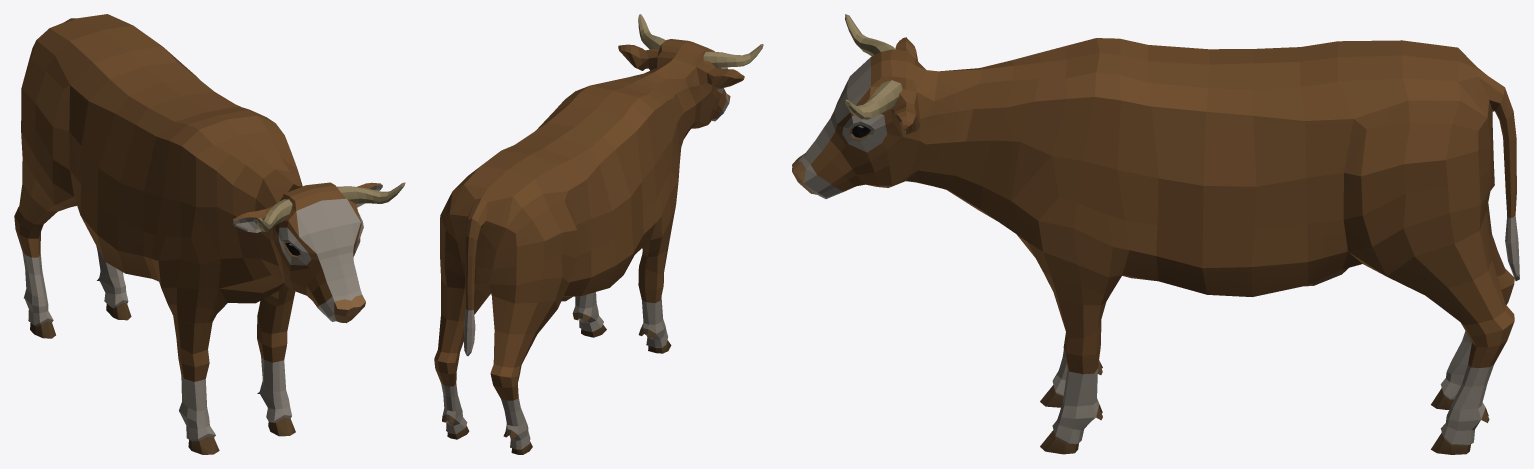
Rendered from ani_cow.glb.
3 renders of one model, left to right at view 1: azimuth 30°, elevation 25°; view 2: azimuth 150°, elevation 25°; view 3: azimuth 270°, elevation 25°, orthographic. The views are drawn at different scales.
Parts seen in each view (by area): view 1: ani_cow; view 2: ani_cow; view 3: ani_cow.
Part boxes in pixels (left/top/right/bottom): ani_cow: left=14, top=14, right=405, bottom=454; ani_cow: left=434, top=14, right=763, bottom=454; ani_cow: left=792, top=14, right=1519, bottom=454.
Size of the model in its own units: 0.6879 by 1.36 by 2.4.
